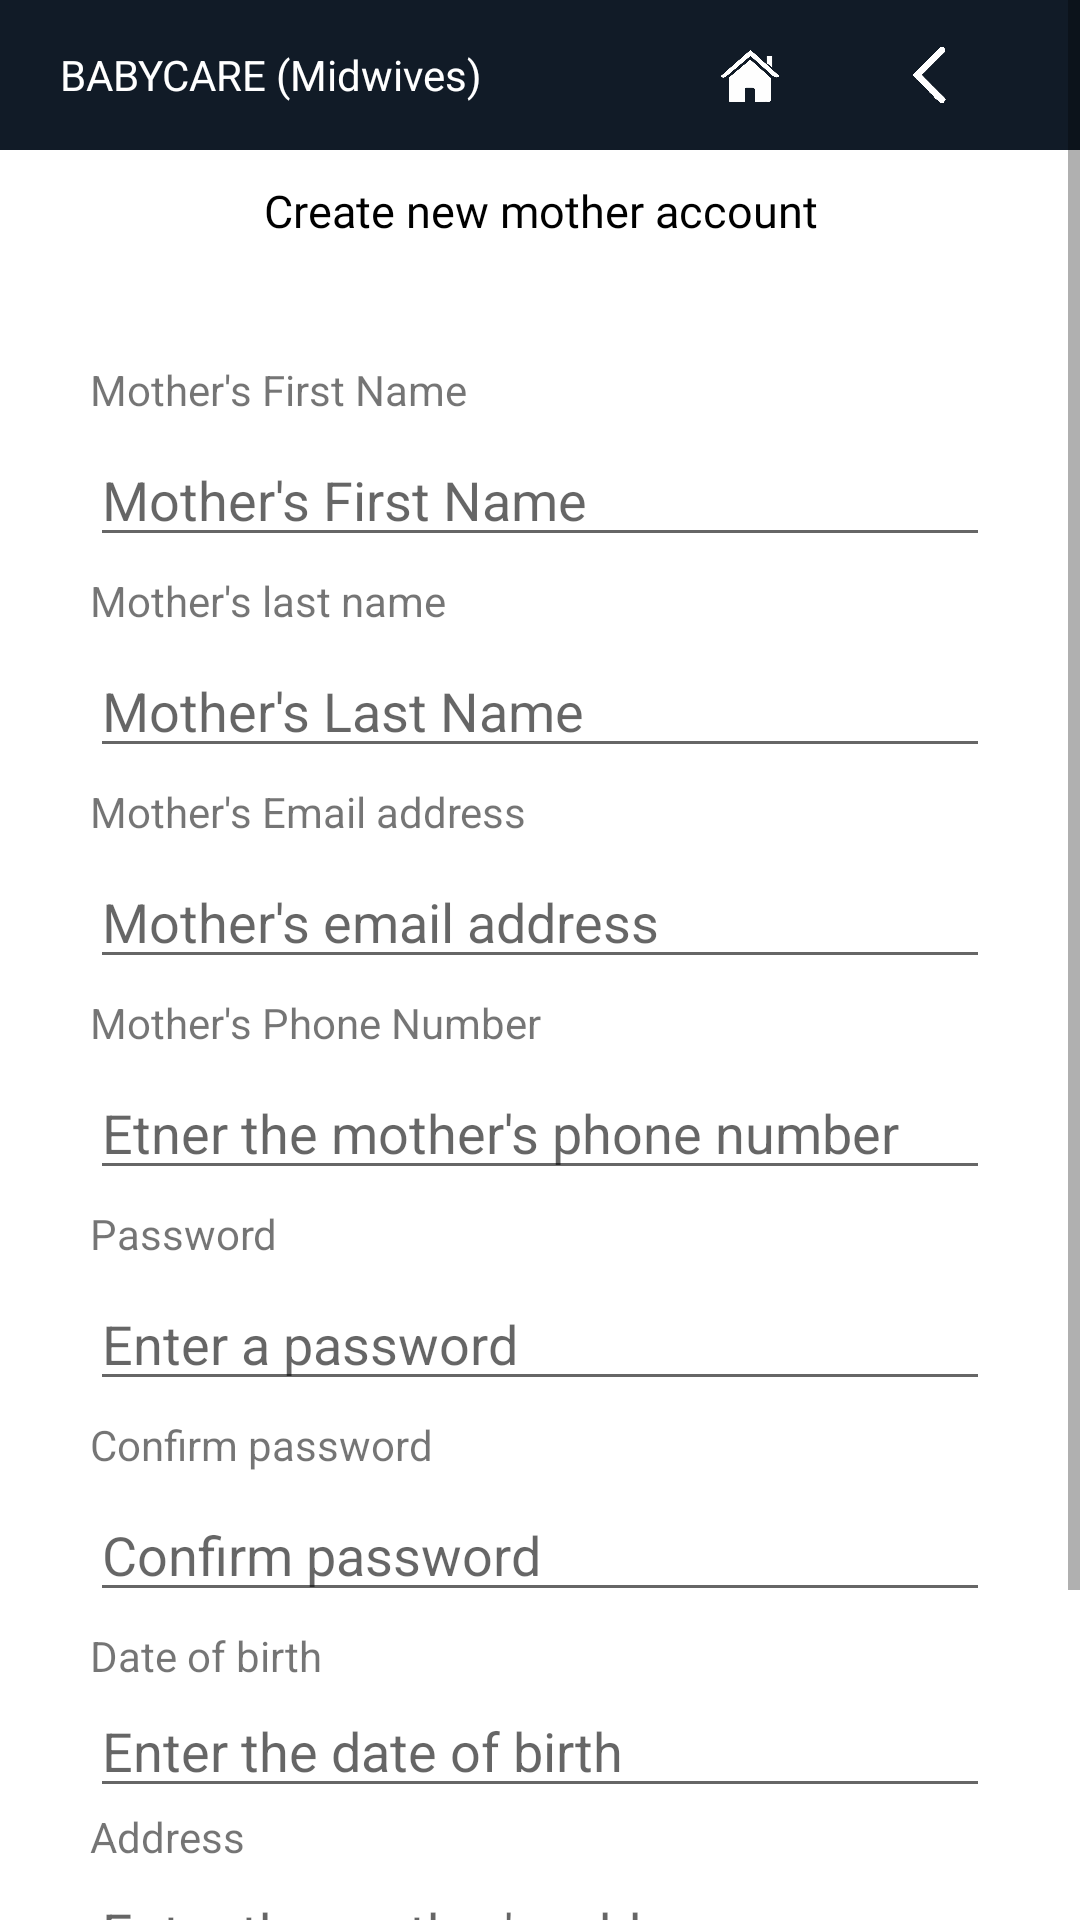

Icons on this 1080 x 1920 Android screen, each with the point to tap as (x=x, y=y):
back: (x=929, y=75)
home: (x=750, y=76)
